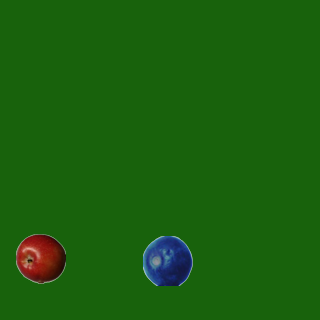Apple Braeburn: (15, 233, 65, 283)
Huckleberry: (142, 235, 192, 285)
